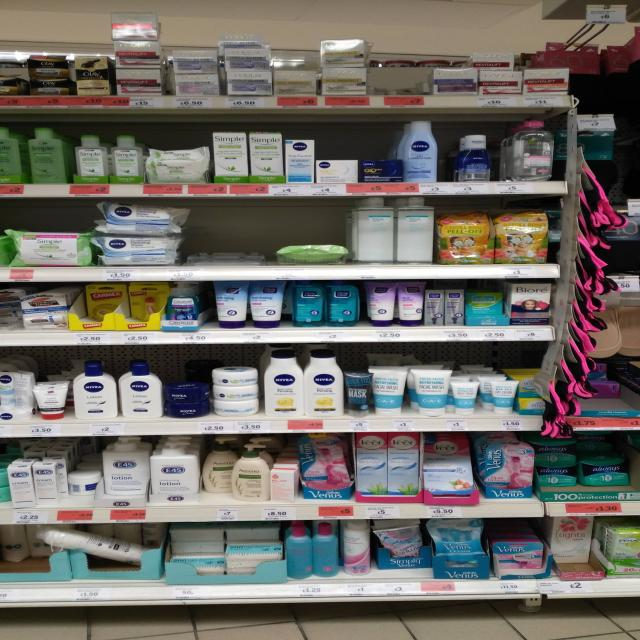void: (182, 200, 271, 266), (372, 67, 431, 95)
